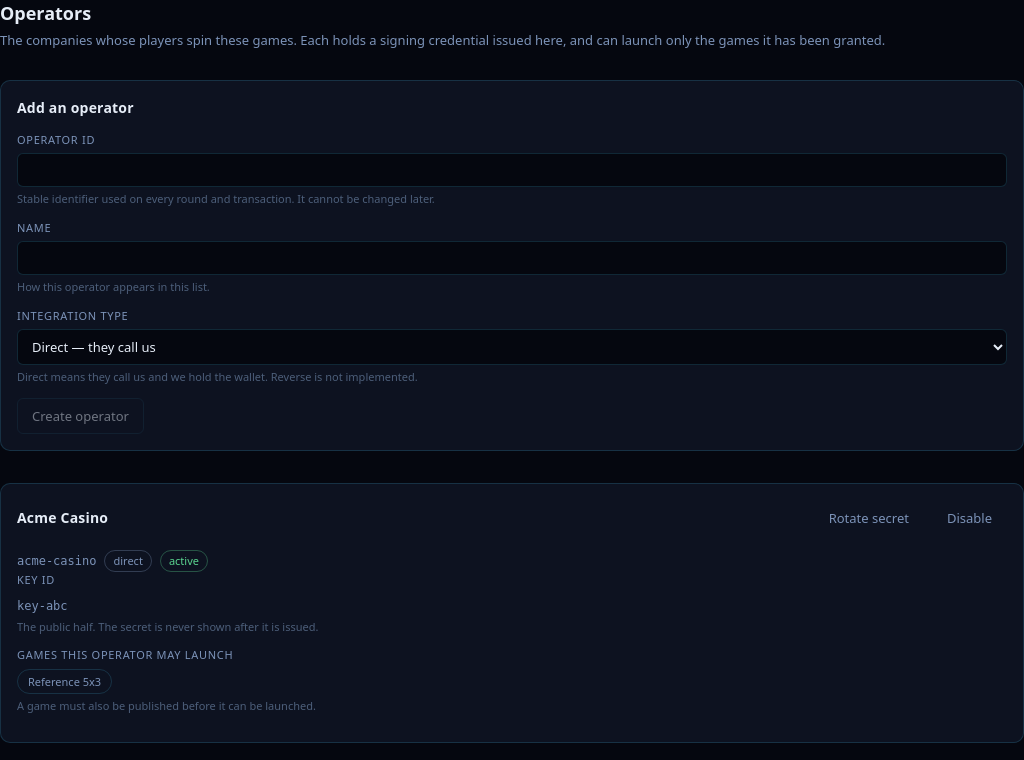
issuing a credential › keeps the secret on screen after the list refreshes behind it
The width and height of the screenshot is (1024, 760).
Step 1. Type "new-op" into the field named "Operator ID" → (512, 170), box left=17, top=153, right=1007, bottom=187
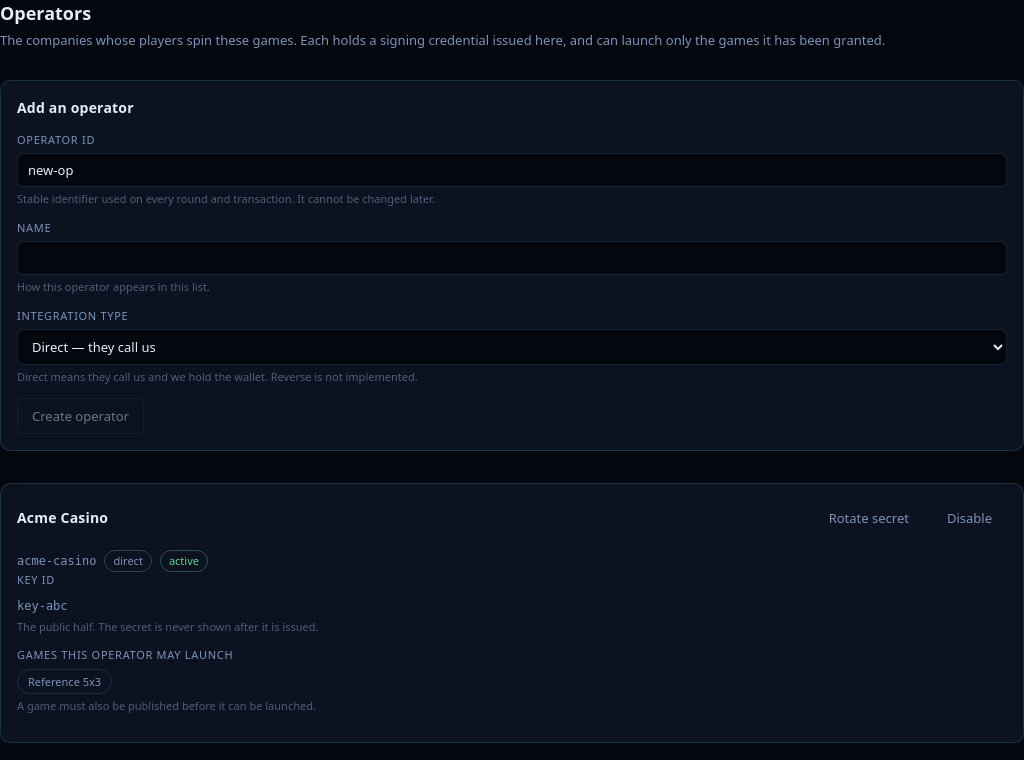
Step 2. Type "New Operator" into the field named "Name" → (512, 258), box left=17, top=241, right=1007, bottom=275
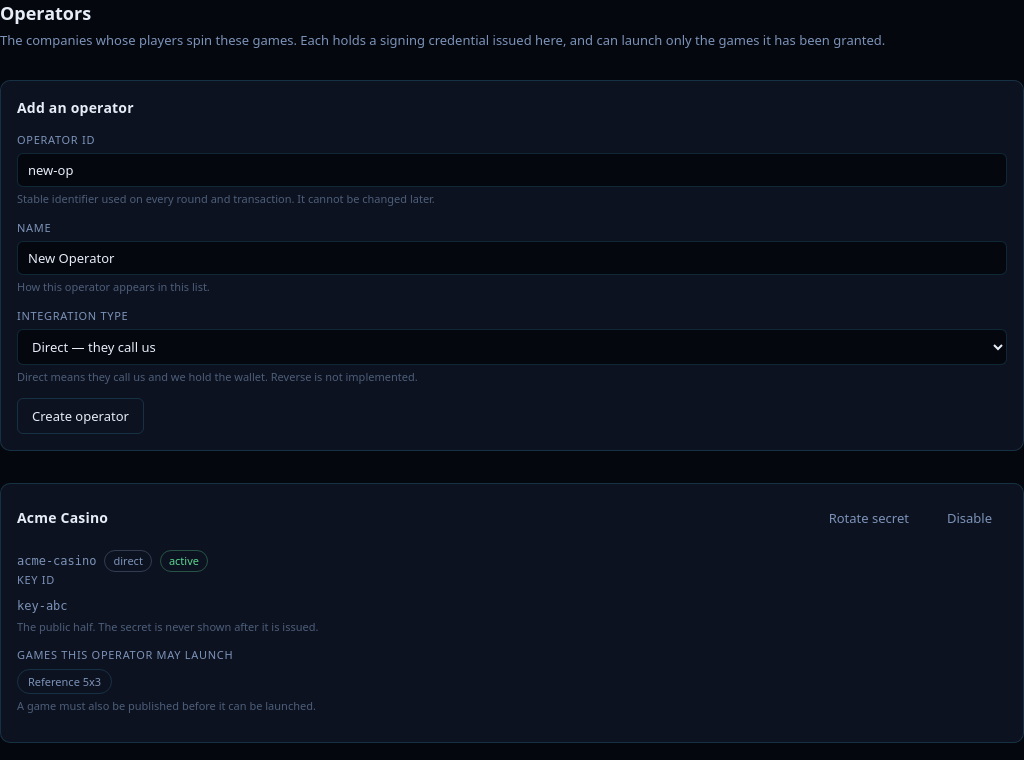
Step 3. Click the button "Create operator" → click(80, 416), box left=17, top=398, right=144, bottom=434
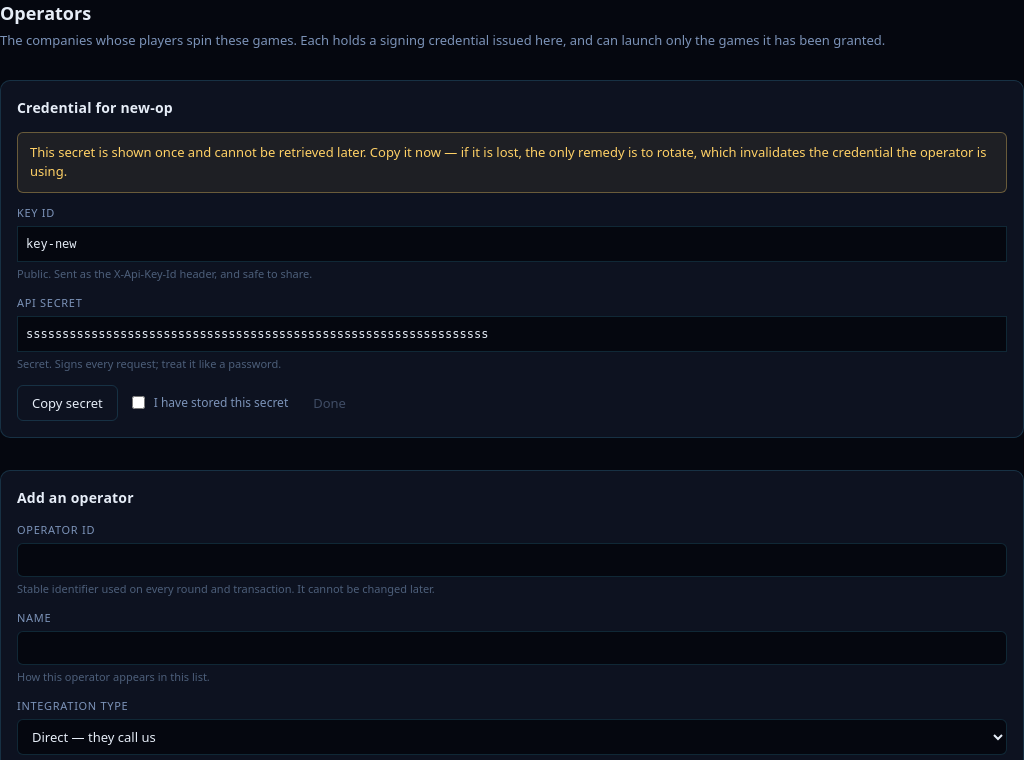
Now the text with test id "api-secret" is shown, box left=17, top=316, right=1007, bottom=352
